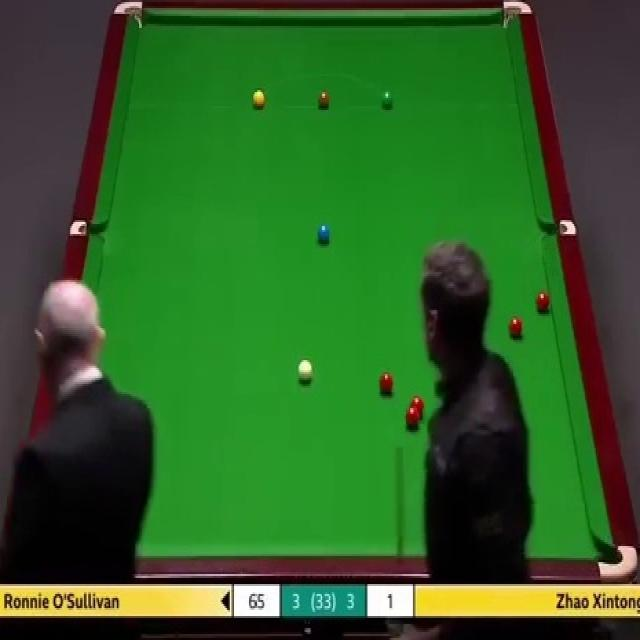pocket: (597, 540, 637, 583), (113, 0, 143, 28), (501, 0, 531, 28), (69, 220, 107, 237), (540, 220, 574, 235)
